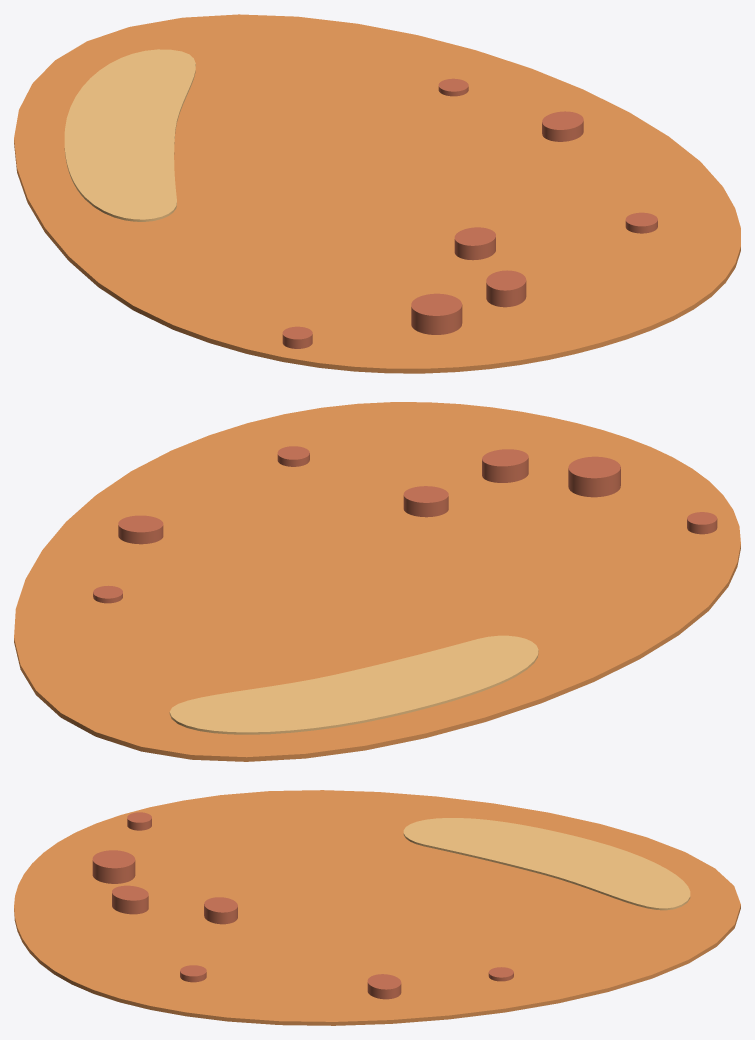
Rendered from emoji_u1f95a.glb.
3 renders of one model, top to bottom at view 1: azimuth 30°, elevation 25°; view 2: azimuth 150°, elevation 25°; view 3: azimuth 270°, elevation 25°, orthographic. The views are drawn at different scales.
Visible parts, largest first — view 1: emoji_u1f95a; view 2: emoji_u1f95a; view 3: emoji_u1f95a.
Part boxes in pixels (<box>): emoji_u1f95a: <box>14,14,740,373</box>; emoji_u1f95a: <box>14,402,740,761</box>; emoji_u1f95a: <box>14,790,740,1025</box>.
Bounding box in the file's own units: 0.0253 × 0.0018 × 0.0336.
